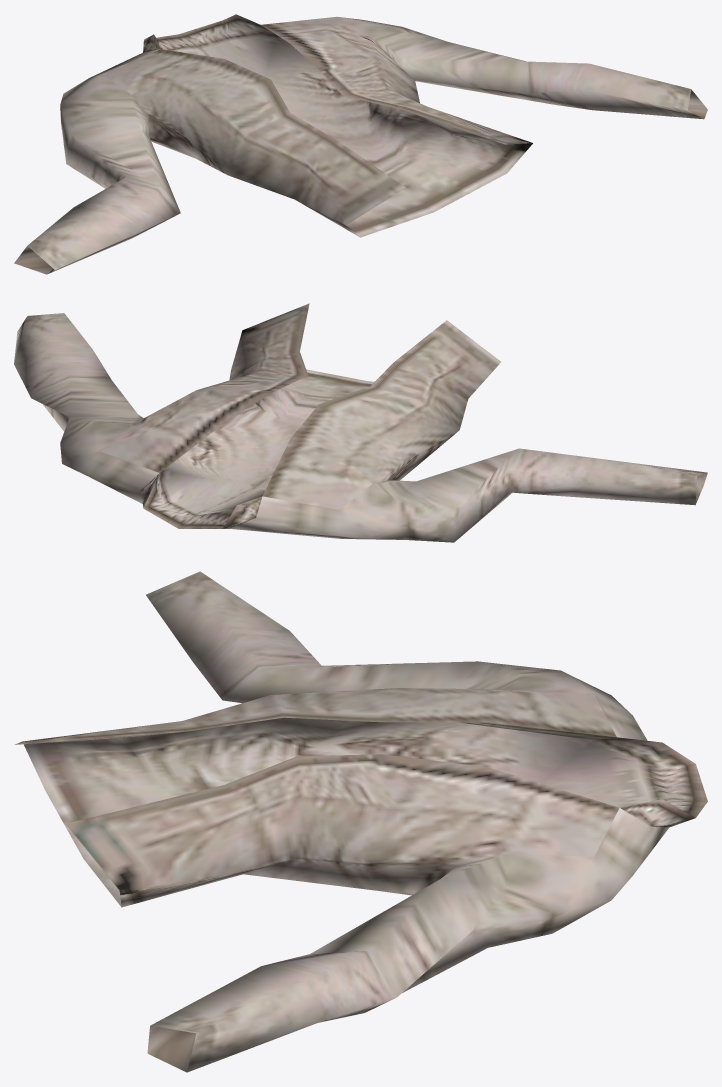
The model's file is eqp_comp_lining.fbx.
3 views of the same model, one above another, from view 1: azimuth 30°, elevation 25°; view 2: azimuth 150°, elevation 25°; view 3: azimuth 270°, elevation 25° (orthographic). The views are drawn at different scales.
Visible parts, largest first — view 1: mesh_node; view 2: mesh_node; view 3: mesh_node.
Part boxes in pixels (bbox=[...]): mesh_node: bbox=[14, 14, 707, 274]; mesh_node: bbox=[14, 303, 707, 542]; mesh_node: bbox=[14, 571, 707, 1072].
Size of the model in its own units: 0.9828 by 0.0961 by 0.614.
Materials: 1 (1 with a texture image).
